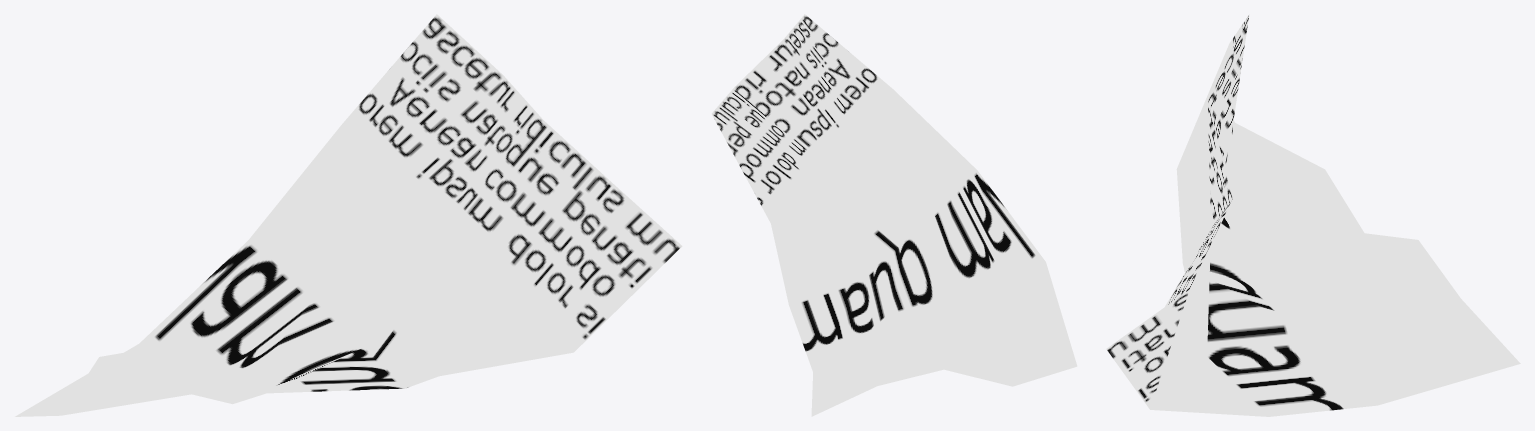
3 views of the same model, side by side, from view 1: azimuth 30°, elevation 25°; view 2: azimuth 150°, elevation 25°; view 3: azimuth 270°, elevation 25° (orthographic). The views are drawn at different scales.
Parts seen in each view (by area): view 1: Plane.005; view 2: Plane.005; view 3: Plane.005.
Part boxes in pixels (x1,y1,x2,y2): Plane.005: (15, 14, 682, 416); Plane.005: (711, 14, 1077, 416); Plane.005: (1106, 14, 1520, 416).
Size of the model in its own units: 0.7074 by 0.4795 by 0.4206.
1 material, 1 textured.
